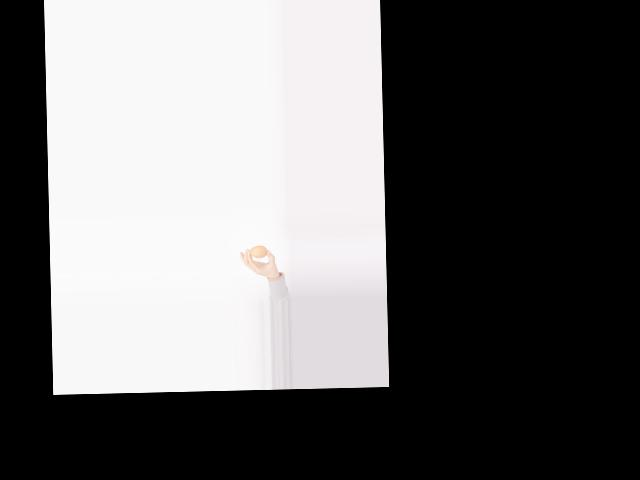egg: (249, 244, 267, 257)
